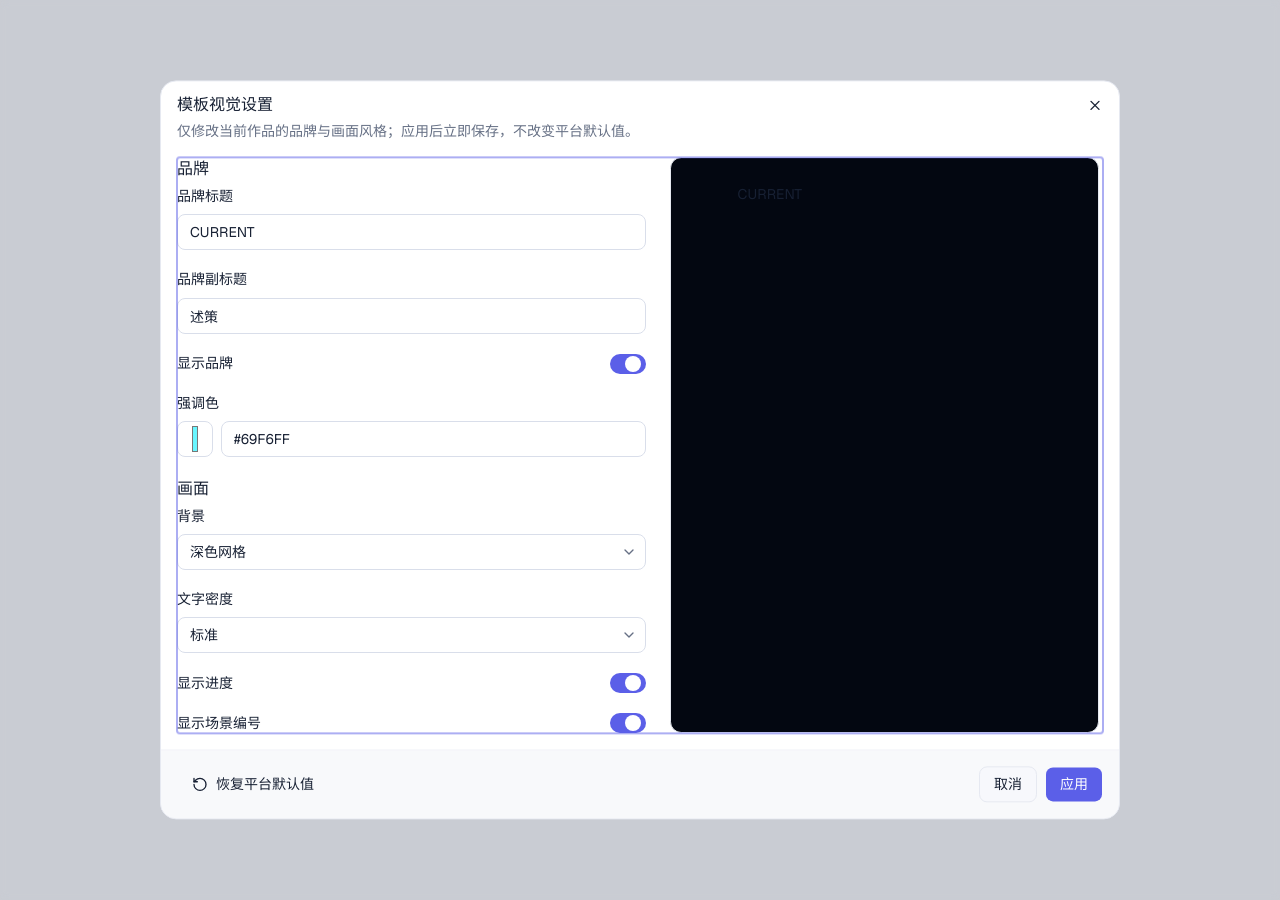
Test: TemplateSettingsDialog › keeps the dialog open and user input intact after a backend save error
Replace the text in the field labelled "品牌标题" with "KEEP THIS": (411, 233) [177,215,646,251]
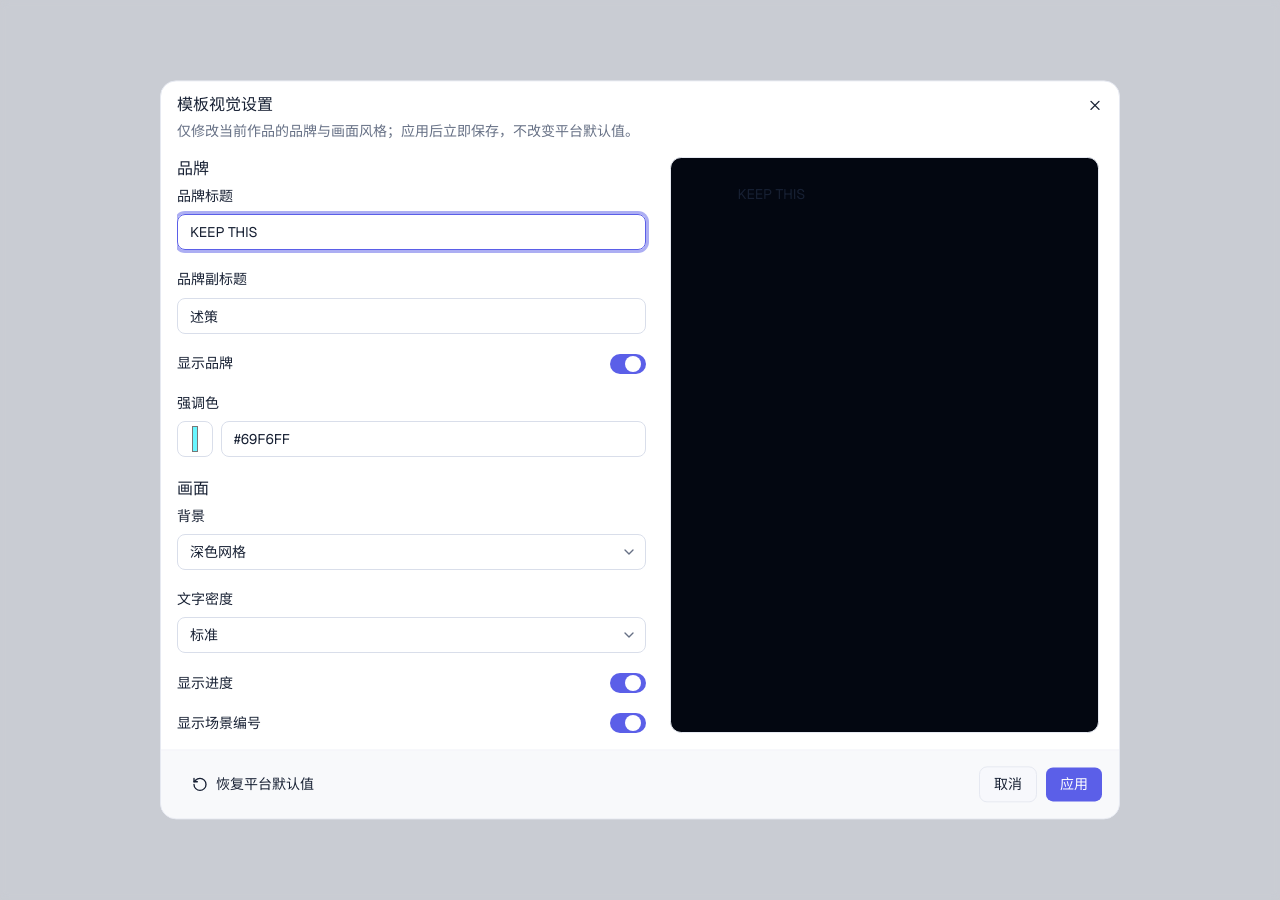
Click the button "应用": click(1074, 785) [1045,767,1103,803]
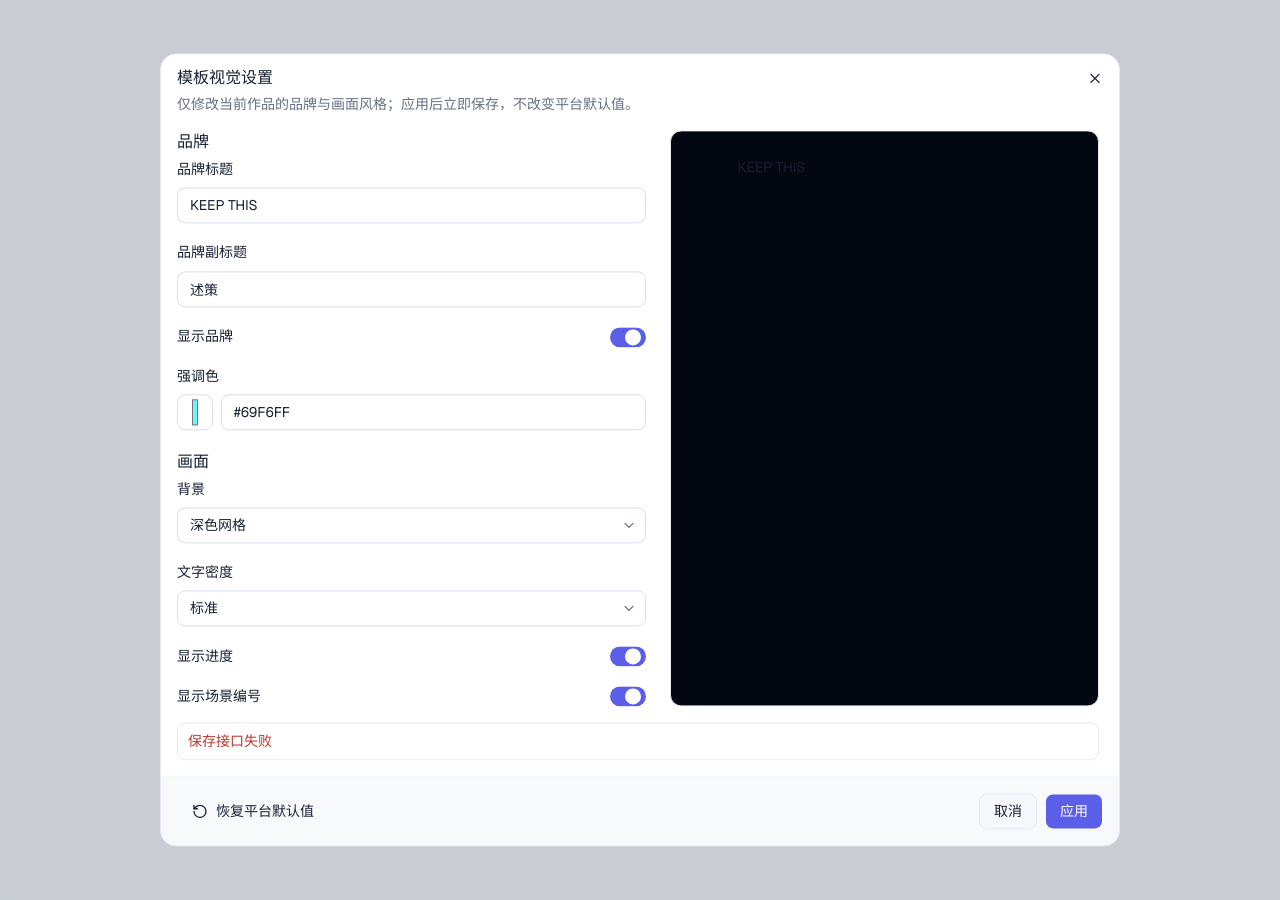
Expected: the message reads "保存接口失败", [188,733,272,751]
